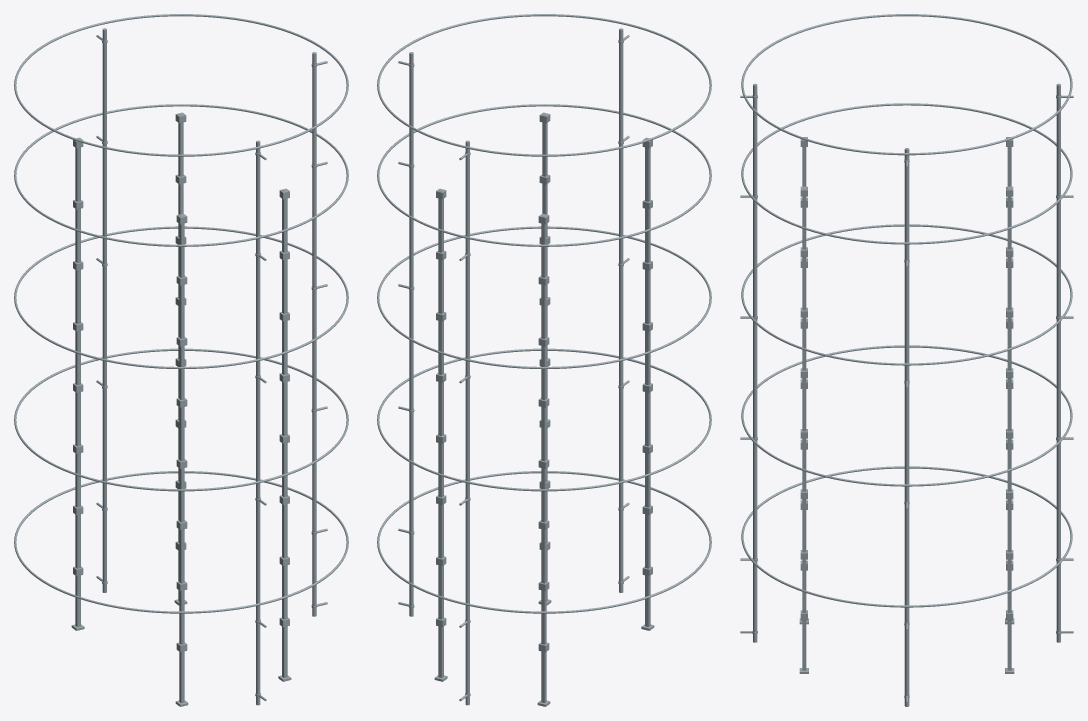
Rendered from RD_VB_Services.fbx.
The picture shows the model from 3 angles, left to right: view 1: azimuth 30°, elevation 25°; view 2: azimuth 150°, elevation 25°; view 3: azimuth 270°, elevation 25°; orthographic projection.
Visible parts, largest first — view 1: RD_VB_Services; view 2: RD_VB_Services; view 3: RD_VB_Services.
Boxes of the visible parts, box(x1,y1,x2,y2) form: RD_VB_Services: box(14, 14, 348, 706); RD_VB_Services: box(377, 14, 711, 706); RD_VB_Services: box(740, 14, 1073, 706).
Bounding box in the file's own units: 995 × 1864 × 998.
